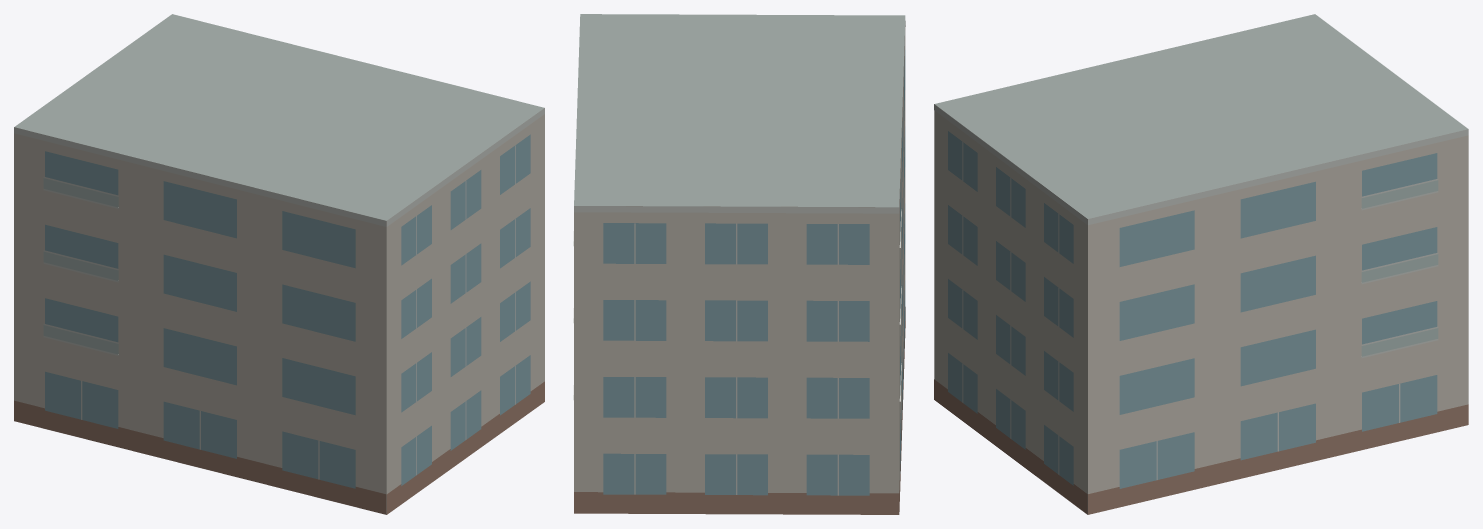
The model's file is survey-upis-32712547.glb.
The picture shows the model from 3 angles, left to right: view 1: azimuth 30°, elevation 25°; view 2: azimuth 150°, elevation 25°; view 3: azimuth 270°, elevation 25°; orthographic projection. The views are drawn at different scales.
Visible parts, largest first — view 1: survey-upis-32712547.tmp; view 2: survey-upis-32712547.tmp; view 3: survey-upis-32712547.tmp.
Part boxes in pixels (x1,y1,x2,y2): survey-upis-32712547.tmp: [14, 14, 544, 514]; survey-upis-32712547.tmp: [573, 14, 905, 514]; survey-upis-32712547.tmp: [934, 14, 1468, 514].
Size of the model in its own units: 17.41 by 11.7 by 19.17.
